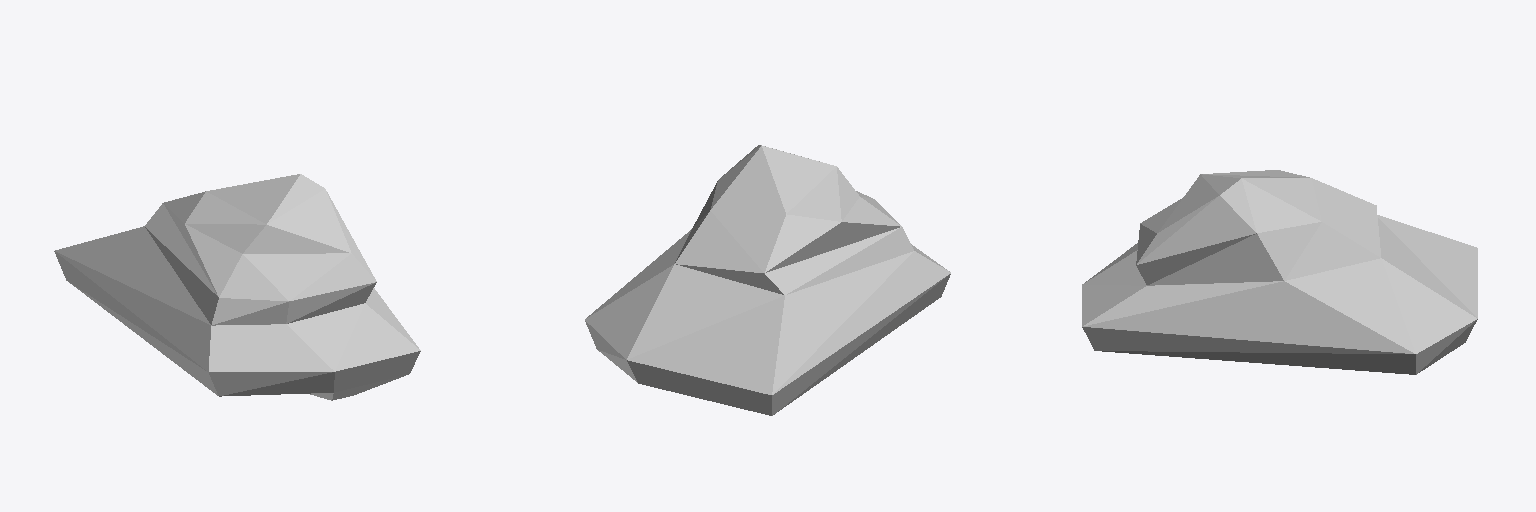
The model's file is Rockdark4.obj.
3 views of the same model, side by side, from view 1: azimuth 30°, elevation 25°; view 2: azimuth 150°, elevation 25°; view 3: azimuth 270°, elevation 25° (orthographic).
Visible parts, largest first — view 1: pasted__pasted__pSphere5 pasted__group65 group66; view 2: pasted__pasted__pSphere5 pasted__group65 group66; view 3: pasted__pasted__pSphere5 pasted__group65 group66.
Part boxes in pixels (x1,y1,x2,y2): pasted__pasted__pSphere5 pasted__group65 group66: (54,174,420,400); pasted__pasted__pSphere5 pasted__group65 group66: (585,145,950,415); pasted__pasted__pSphere5 pasted__group65 group66: (1082,170,1477,374).
Bounding box in the file's own units: 3.64 × 2.71 × 5.4.